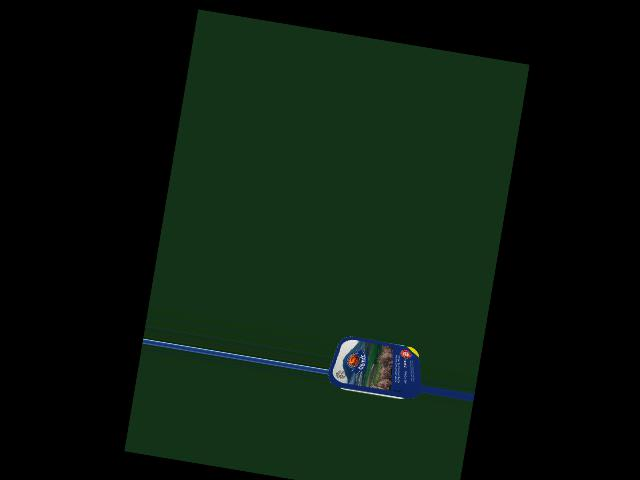cheese: (331, 332, 418, 407)
